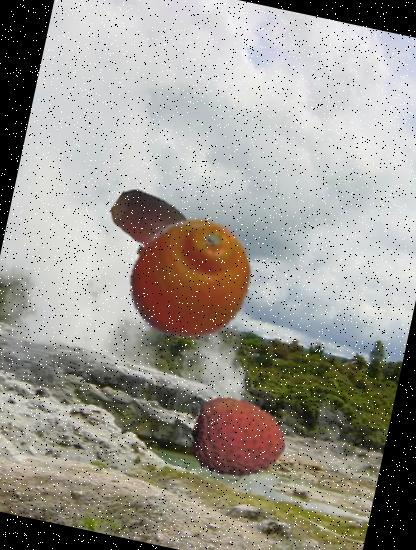Hazelnut: (102, 172, 204, 274)
Lychee: (182, 385, 294, 496)
Tangelo: (113, 204, 266, 356)
